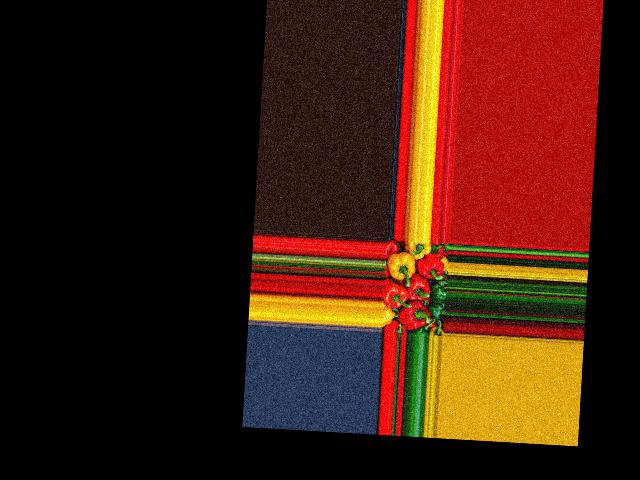bell_pepper: (380, 307, 394, 324)
